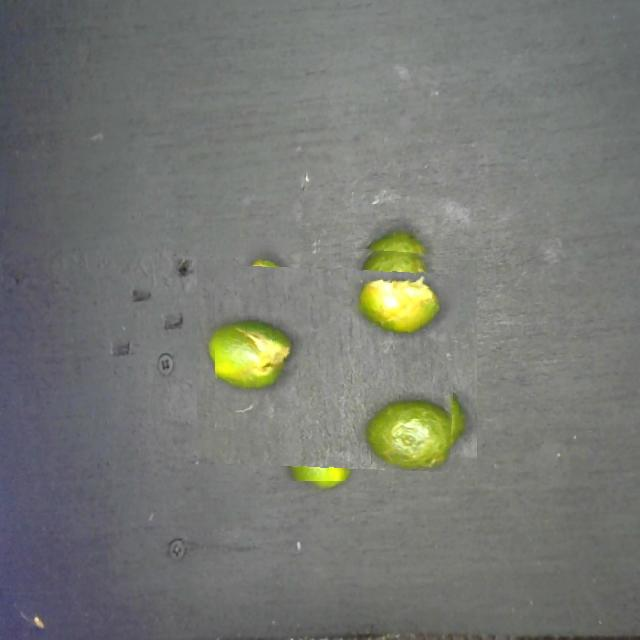biodegradable: (215, 238, 459, 481)
